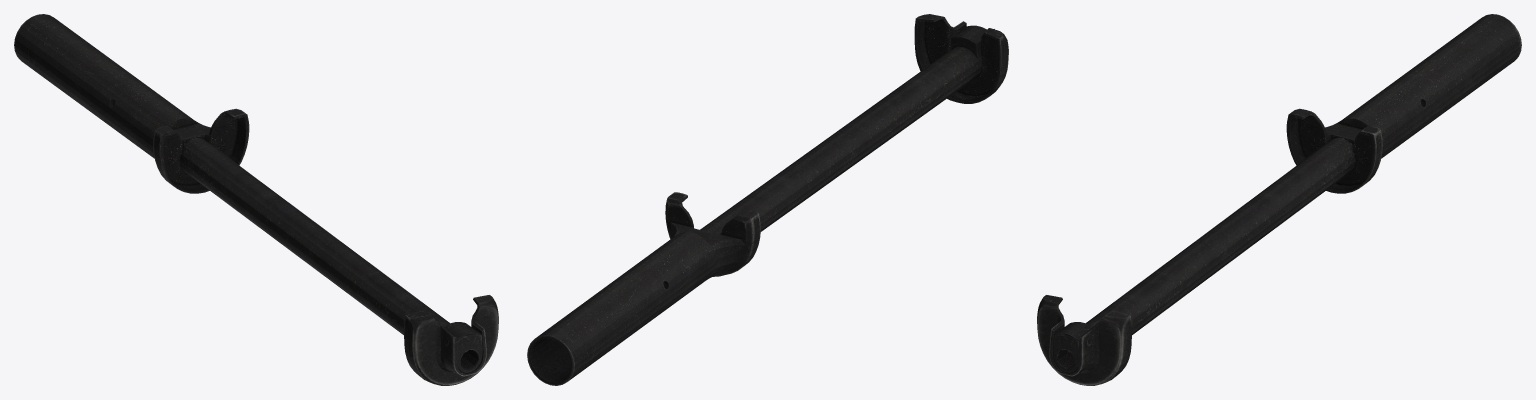
The picture shows the model from 3 angles, left to right: view 1: azimuth 30°, elevation 25°; view 2: azimuth 150°, elevation 25°; view 3: azimuth 330°, elevation 25°; orthographic projection.
Parts seen in each view (by area): view 1: TW_634f036a517ccc8a960fc746_PZ_Import; view 2: TW_634f036a517ccc8a960fc746_PZ_Import; view 3: TW_634f036a517ccc8a960fc746_PZ_Import.
Boxes of the visible parts, x1=… form: TW_634f036a517ccc8a960fc746_PZ_Import: x1=14, y1=14, x2=498, y2=385; TW_634f036a517ccc8a960fc746_PZ_Import: x1=527, y1=14, x2=1008, y2=385; TW_634f036a517ccc8a960fc746_PZ_Import: x1=1037, y1=14, x2=1521, y2=385.
Size of the model in its own units: 0.0169 by 0.1417 by 0.0141.
Materials: 1 (1 with a texture image).
